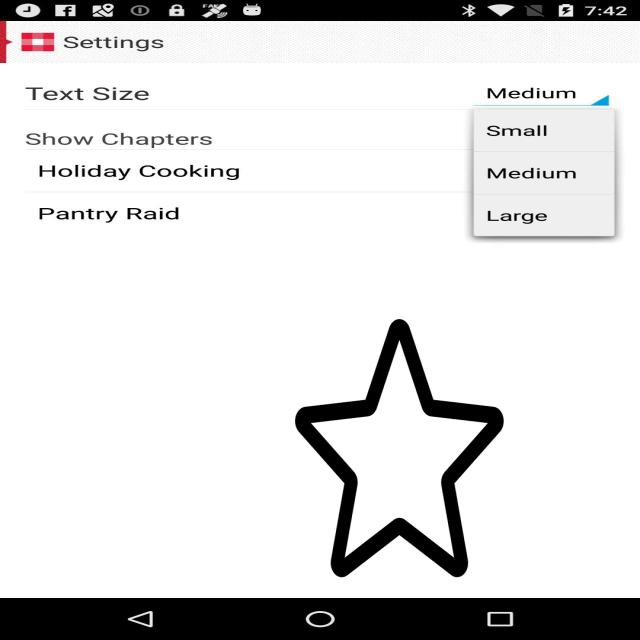forced continuity: (295, 313, 504, 583)
